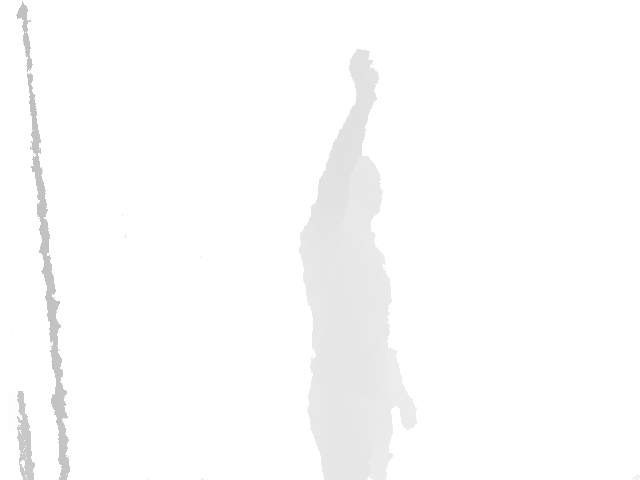hand: (349, 49, 380, 102)
hand_down: (396, 400, 417, 431)
head: (337, 157, 383, 222)
person: (298, 49, 419, 480)
